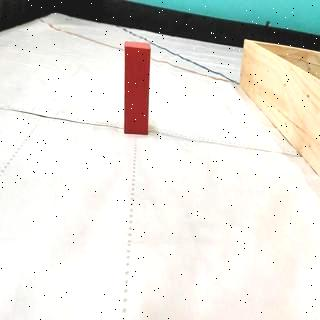redbox: (122, 40, 150, 137)
